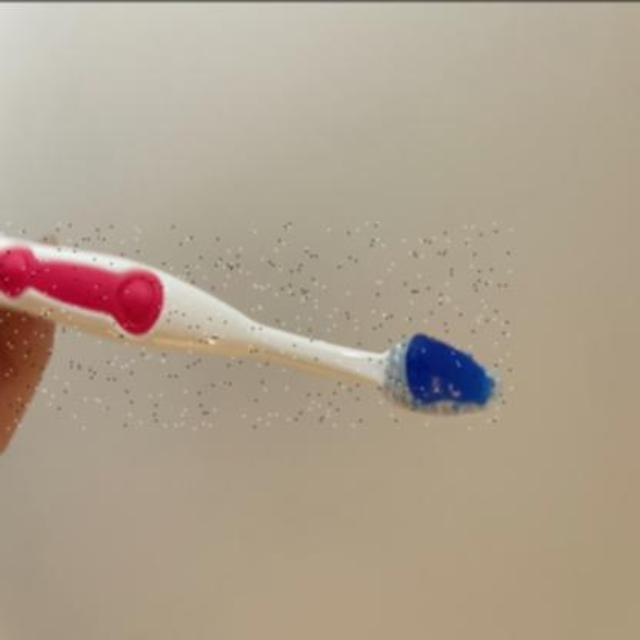toothbrush: (0, 222, 512, 428)
